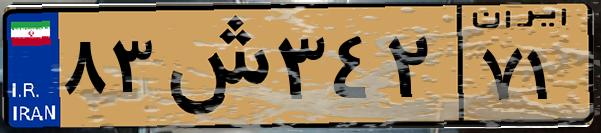1: (525, 38, 570, 115)
2: (385, 28, 445, 110)
3: (270, 28, 330, 110), (110, 28, 158, 98)
4: (330, 28, 385, 110)
7: (475, 38, 525, 113)
8: (57, 26, 110, 100)
ش: (158, 12, 270, 120)
